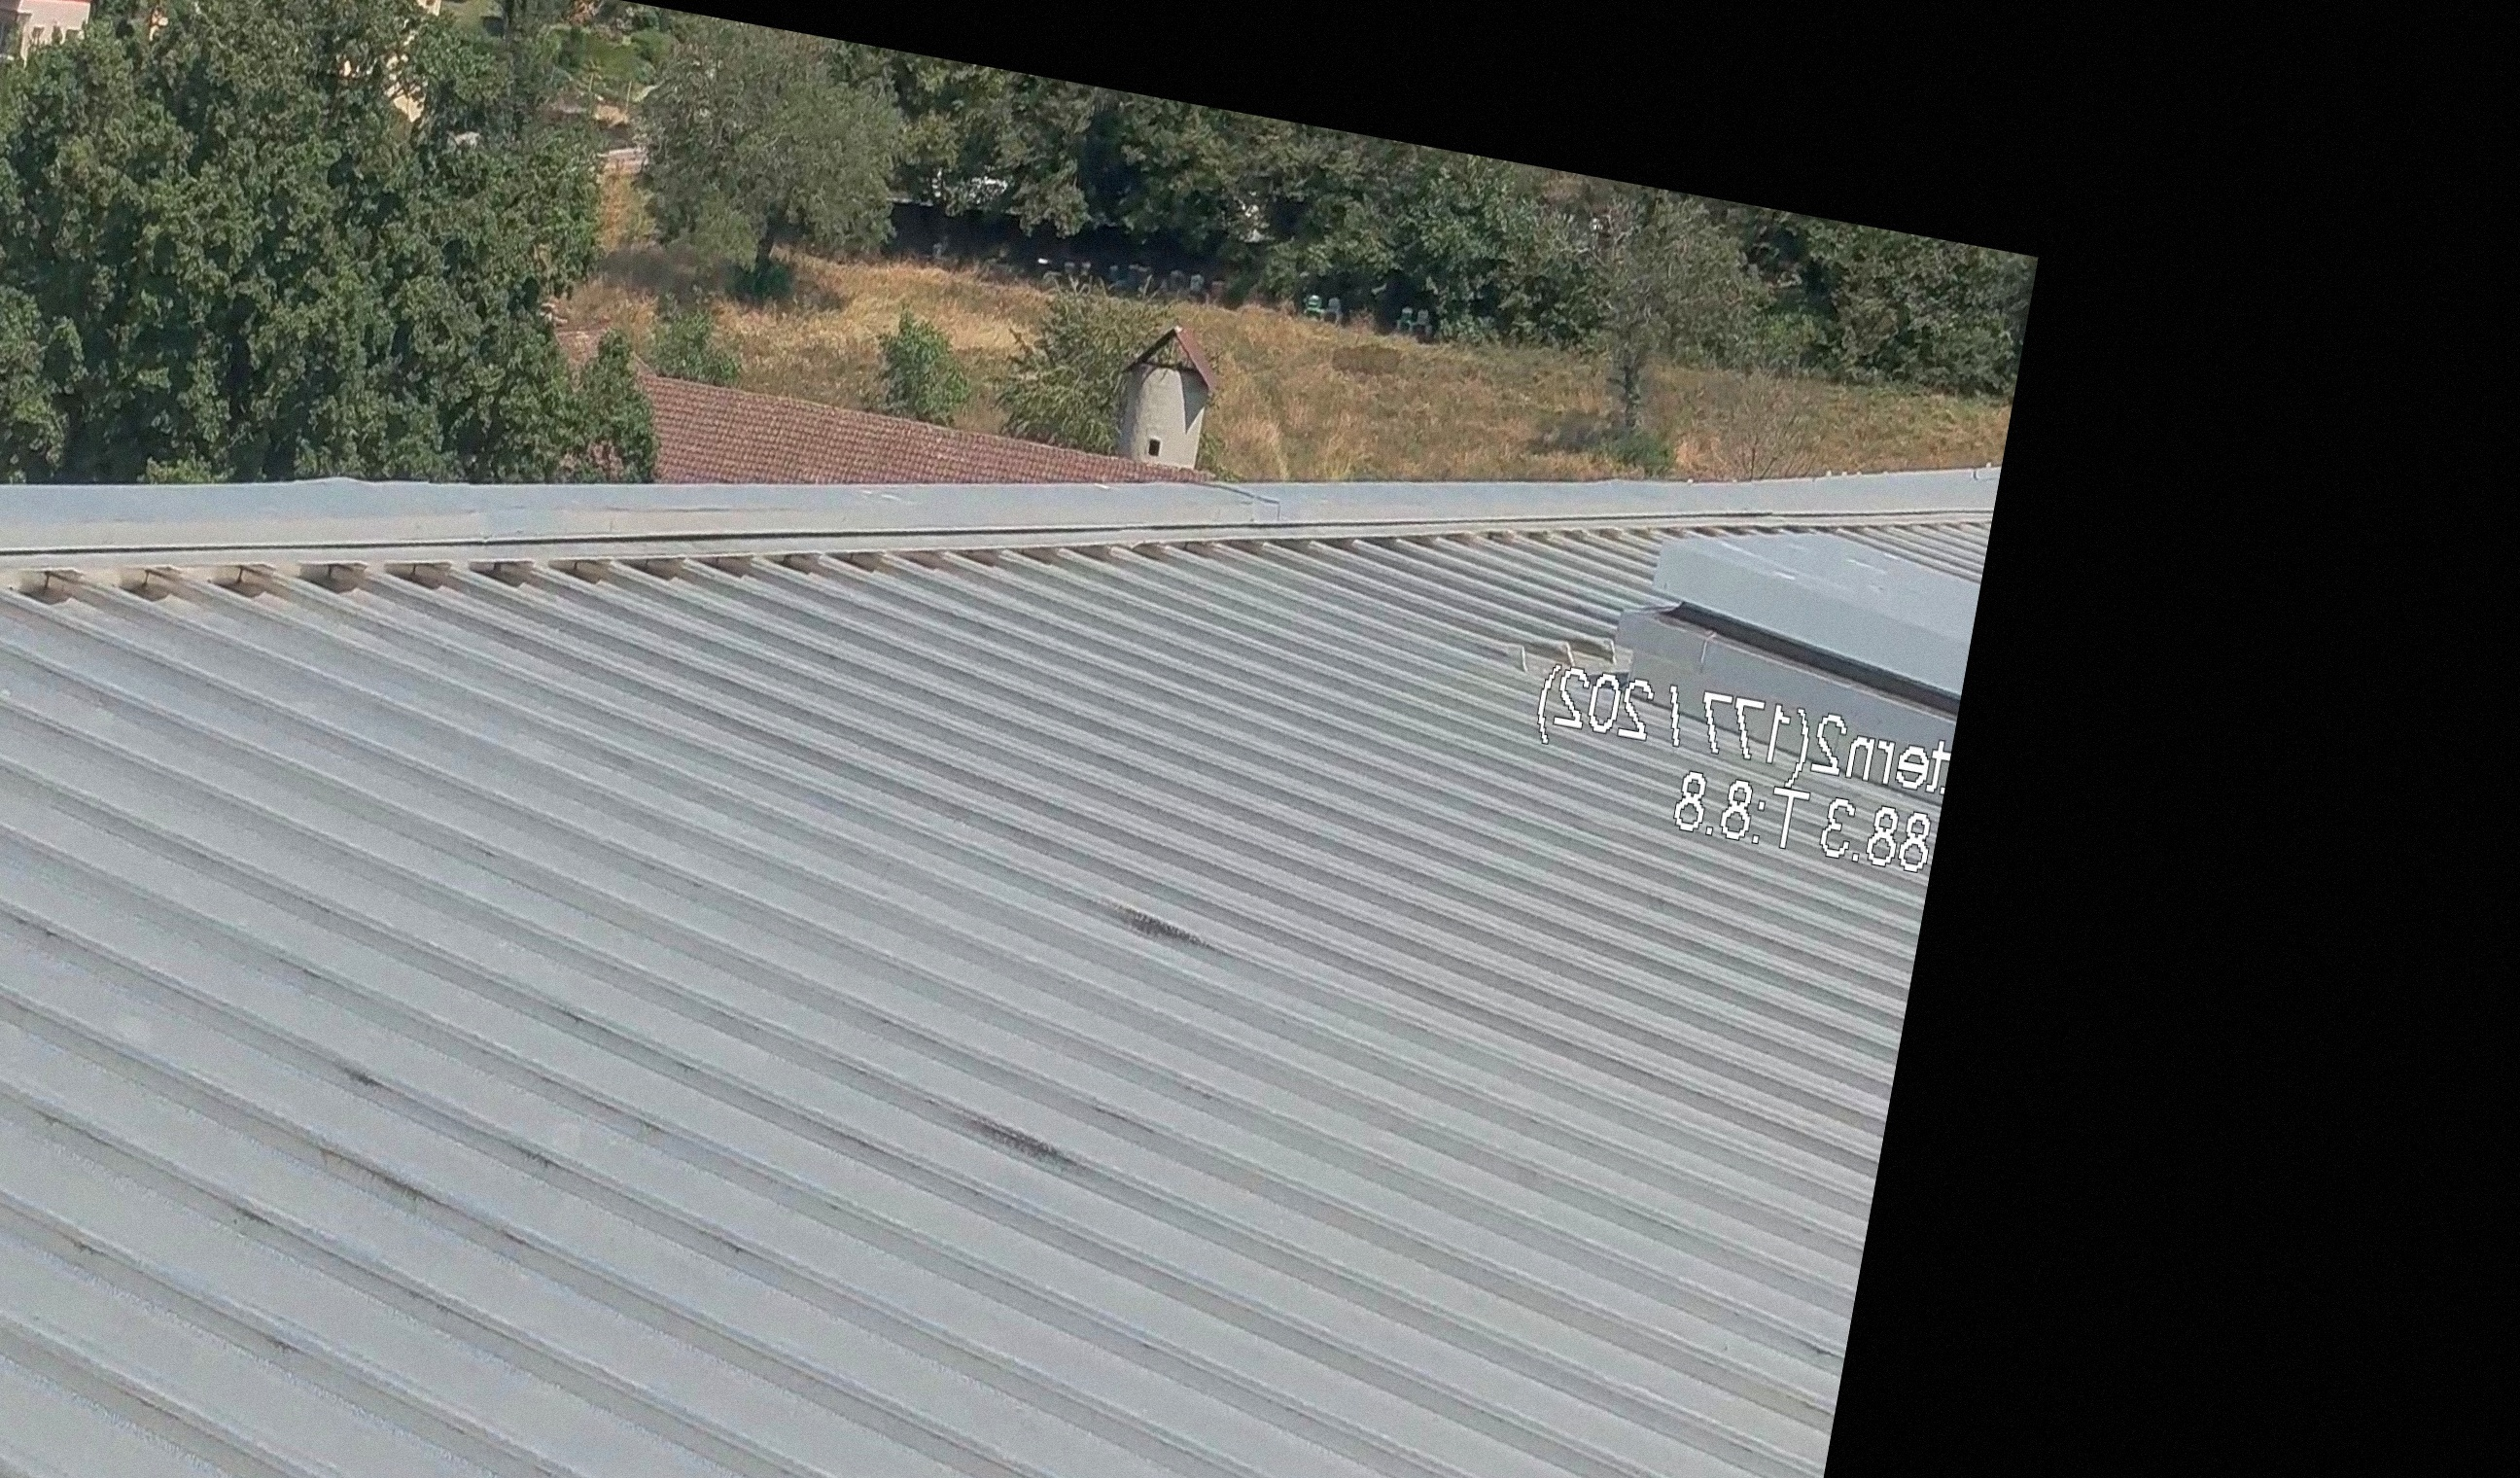Other: (1101, 285, 1236, 489)
